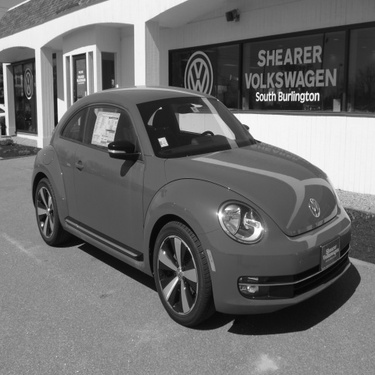car: (22, 77, 357, 334)
